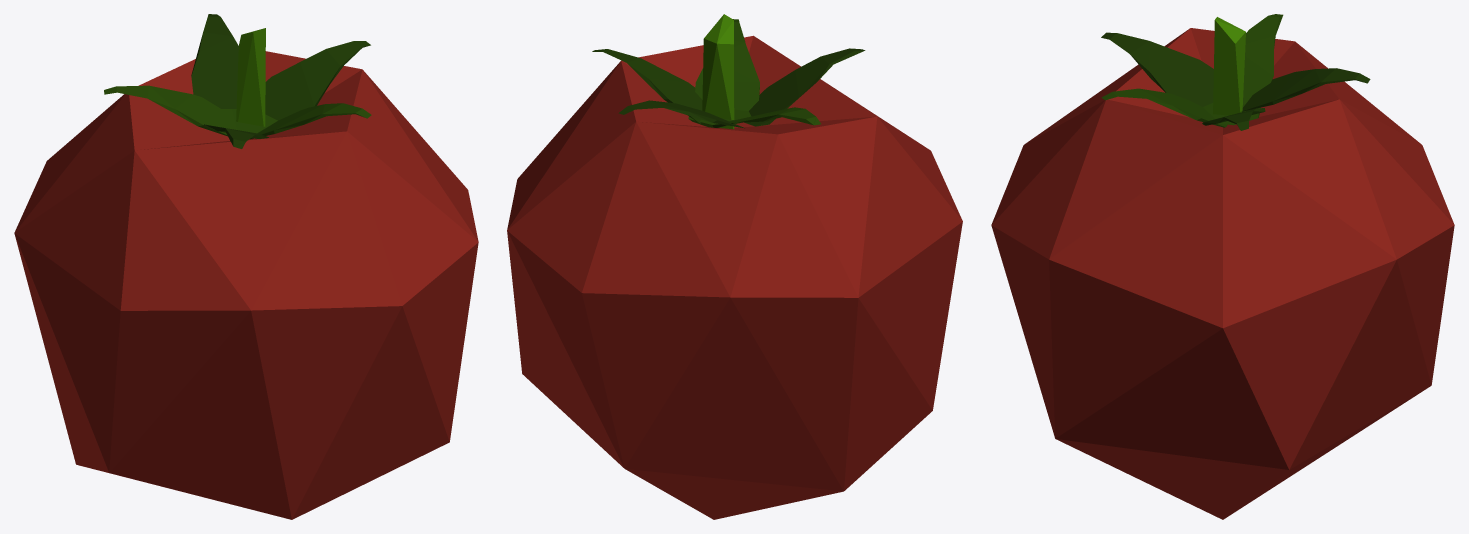
The model's file is Domates.fbx.
3 views of the same model, side by side, from view 1: azimuth 30°, elevation 25°; view 2: azimuth 150°, elevation 25°; view 3: azimuth 270°, elevation 25° (orthographic). The views are drawn at different scales.
Visible parts, largest first — view 1: Icosphere, Cube, Cube.001, Cube.002, Cylinder, Cube.003, Cube.004; view 2: Icosphere, Cylinder, Cube.004, Cube, Cube.003, Cube.002, Cube.001; view 3: Icosphere, Cube.004, Cylinder, Cube.002, Cube.001, Cube.003, Cube.
Part boxes in pixels (x1=…): Icosphere: x1=14, y1=51, x2=478, y2=519; Cube: x1=265, y1=41, x2=370, y2=120; Cube.001: x1=191, y1=14, x2=238, y2=108; Cube.002: x1=104, y1=85, x2=277, y2=136; Cylinder: x1=236, y1=28, x2=265, y2=126; Cube.003: x1=250, y1=103, x2=371, y2=139; Cube.004: x1=204, y1=124, x2=268, y2=148; Icosphere: x1=507, y1=35, x2=962, y2=519; Cylinder: x1=702, y1=14, x2=734, y2=129; Cube.004: x1=744, y1=48, x2=865, y2=126; Cube: x1=592, y1=49, x2=702, y2=123; Cube.003: x1=695, y1=19, x2=759, y2=110; Cube.002: x1=688, y1=107, x2=820, y2=127; Cube.001: x1=618, y1=100, x2=744, y2=128; Icosphere: x1=991, y1=28, x2=1454, y2=519; Cube.004: x1=1101, y1=32, x2=1213, y2=106; Cylinder: x1=1213, y1=17, x2=1245, y2=124; Cube.002: x1=1203, y1=14, x2=1283, y2=125; Cube.001: x1=1241, y1=68, x2=1370, y2=111; Cube.003: x1=1101, y1=88, x2=1227, y2=127; Cube: x1=1202, y1=108, x2=1265, y2=130.
Size of the model in its own units: 23.69 by 27.24 by 24.31.
